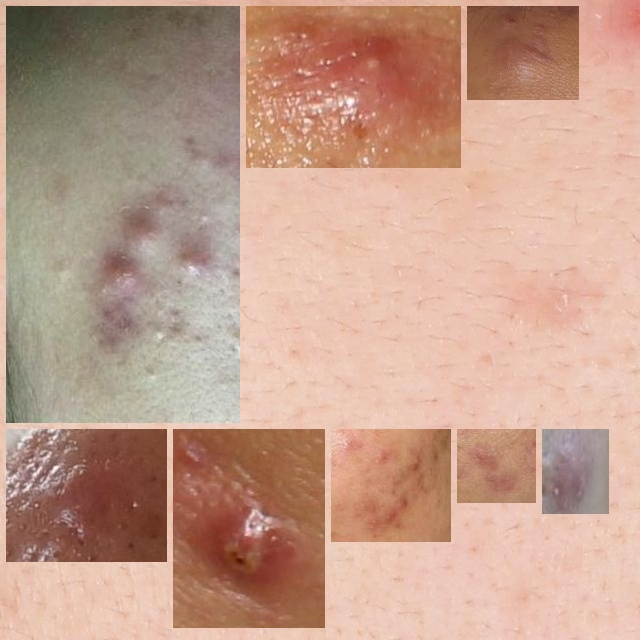nodule: (14, 14, 232, 478), (254, 14, 453, 160), (181, 437, 317, 620), (14, 437, 159, 554), (339, 437, 443, 534), (475, 14, 571, 92), (465, 437, 528, 495), (550, 437, 601, 506)
